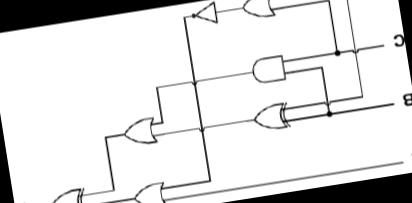and: (244, 50, 290, 86)
not: (187, 0, 222, 29)
or: (118, 112, 160, 149), (129, 176, 171, 203), (240, 0, 277, 21)
xor: (250, 95, 293, 136), (45, 182, 90, 203)
